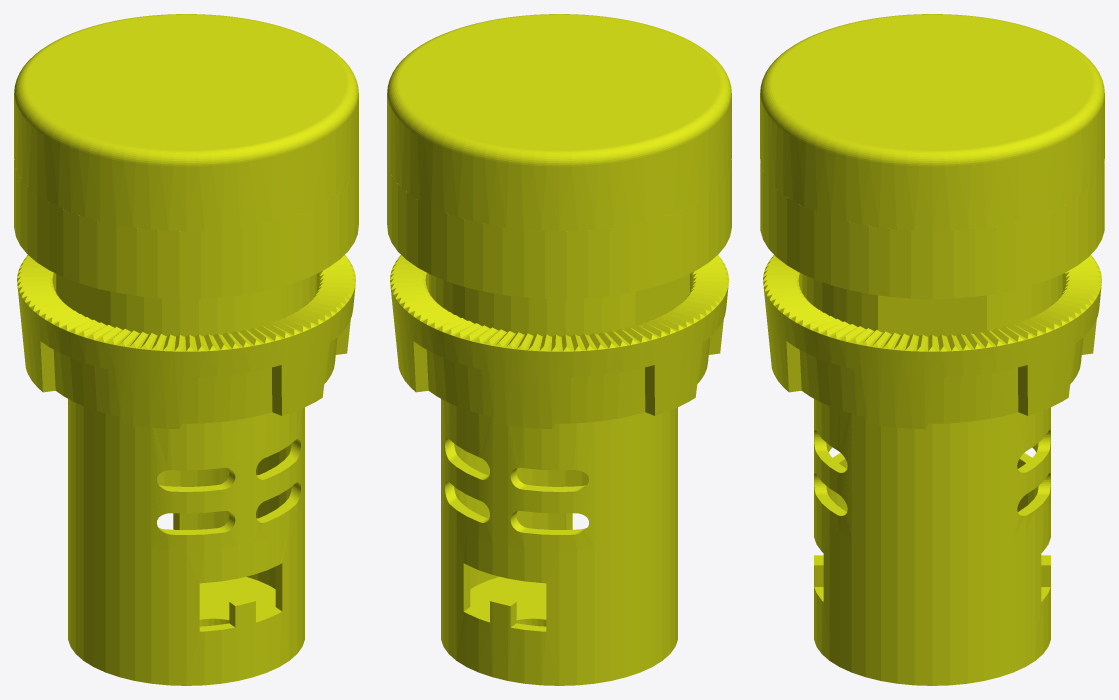
The model's file is lightback.dae.
3 views of the same model, side by side, from view 1: azimuth 30°, elevation 25°; view 2: azimuth 150°, elevation 25°; view 3: azimuth 270°, elevation 25° (orthographic).
Visible parts, largest first — view 1: redLight; view 2: redLight; view 3: redLight.
Boxes of the visible parts, x1,y1,x2,y2 form: redLight: [14, 14, 358, 685]; redLight: [387, 14, 731, 685]; redLight: [760, 14, 1104, 685].
Size of the model in its own units: 0.029 by 0.029 by 0.0513.
